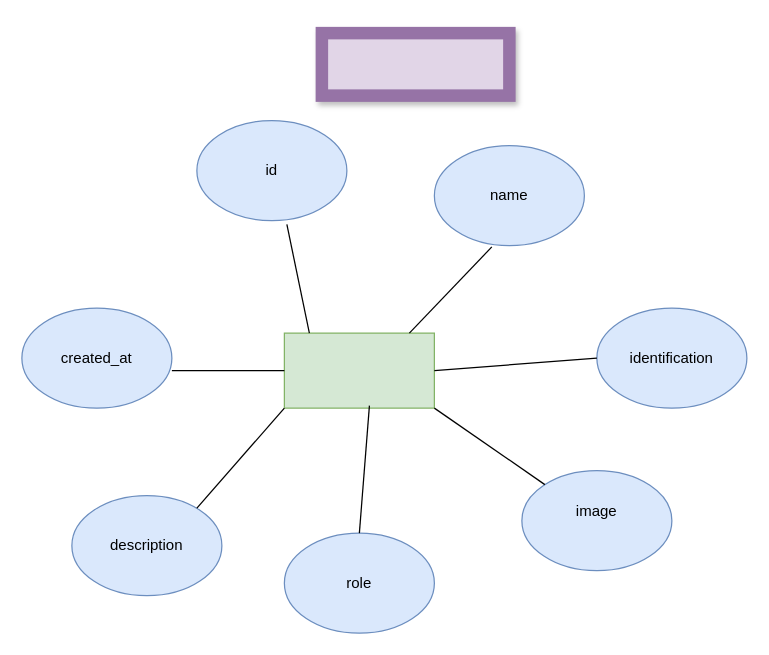
This 769x655 diagram has some shape labels left out. The centre of each missing label's shape, as x and y in pixels:
Character: point 358,370
Modelo Entidad relacion: point 416,65
